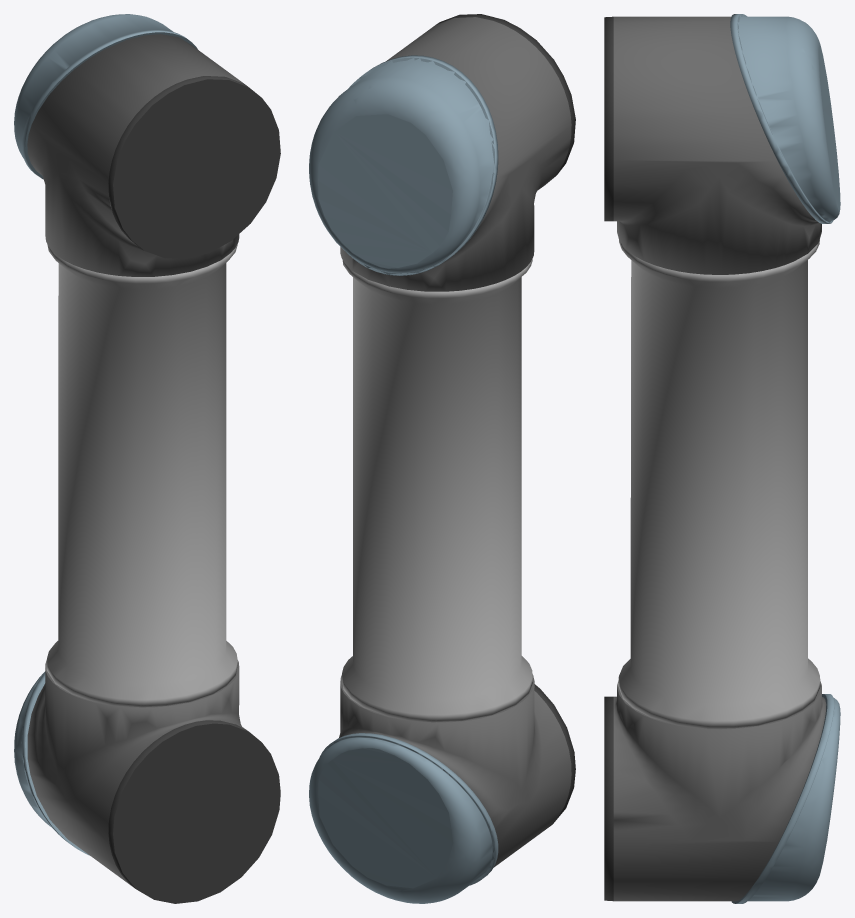
File: UpperArm.dae
3 renders of one model, left to right at view 1: azimuth 30°, elevation 25°; view 2: azimuth 150°, elevation 25°; view 3: azimuth 270°, elevation 25°, orthographic. The views are drawn at different scales.
Parts seen in each view (by area): view 1: Actor3, Actor2, Actor0, Actor1, Actor4; view 2: Actor3, Actor1, Actor4, Actor2, Actor0; view 3: Actor3, Actor2, Actor0, Actor1, Actor4.
Boxes of the visible parts, x1,y1,x2,y2 form: Actor3: (46, 244, 237, 707); Actor2: (27, 34, 280, 276); Actor0: (27, 659, 280, 903); Actor1: (14, 14, 197, 179); Actor4: (14, 671, 89, 855); Actor3: (342, 259, 532, 722); Actor1: (309, 55, 498, 275); Actor4: (309, 733, 498, 903); Actor2: (340, 14, 575, 291); Actor0: (339, 674, 575, 867); Actor3: (618, 239, 820, 728); Actor2: (604, 16, 821, 274); Actor0: (604, 680, 826, 901); Actor1: (730, 14, 840, 223); Actor4: (731, 694, 840, 903).
Size of the model in its own units: 0.1189 by 0.1337 by 0.544.
